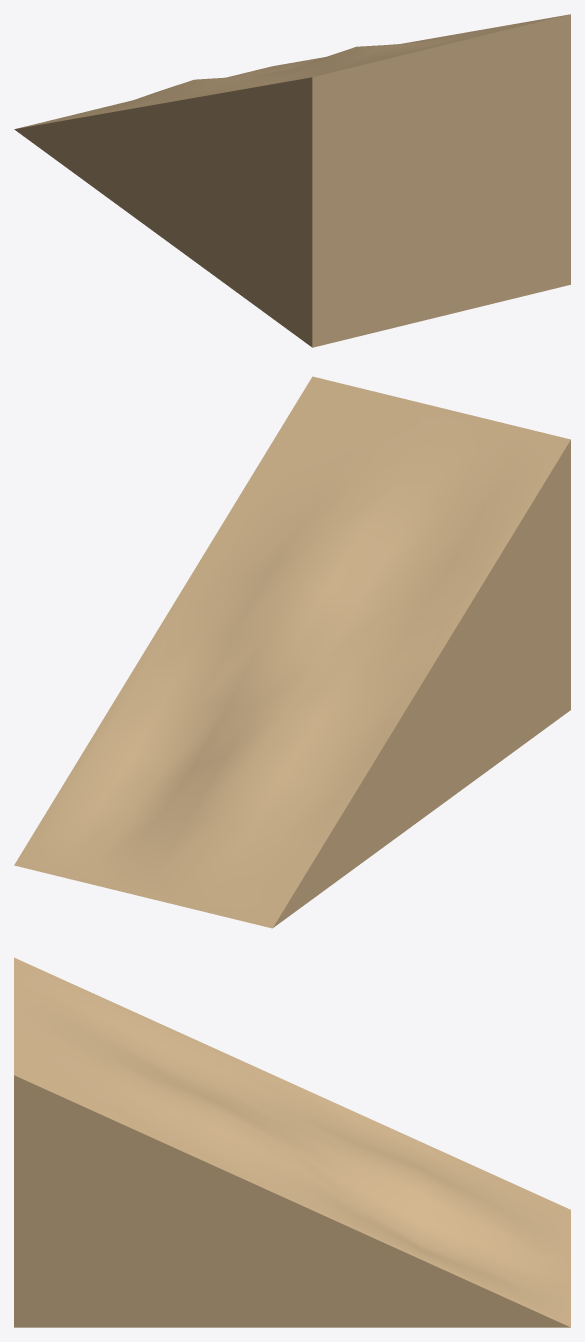
File: Stairs_Sand.fbx
3 views of the same model, one above another, from view 1: azimuth 30°, elevation 25°; view 2: azimuth 150°, elevation 25°; view 3: azimuth 270°, elevation 25° (orthographic). The views are drawn at different scales.
Visible parts, largest first — view 1: Stairs_Sand; view 2: Stairs_Sand; view 3: Stairs_Sand.
Part boxes in pixels (bbox=[...]): Stairs_Sand: bbox=[14, 14, 570, 347]; Stairs_Sand: bbox=[14, 376, 570, 928]; Stairs_Sand: bbox=[14, 957, 570, 1327].
Bounding box in the file's own units: 1 × 2 × 1.
